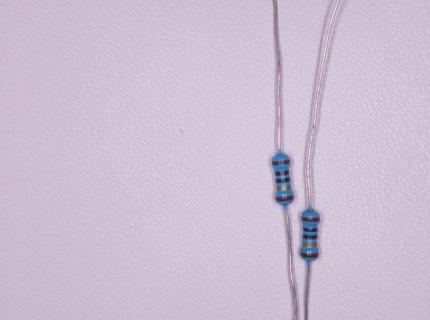Black band: (276, 177, 291, 183), (303, 227, 318, 232), (275, 171, 290, 176), (303, 235, 318, 239)
Brown band: (275, 195, 294, 202), (301, 216, 320, 222), (300, 252, 319, 258), (272, 159, 290, 165)
Gold band: (276, 185, 291, 191), (302, 242, 317, 247)
